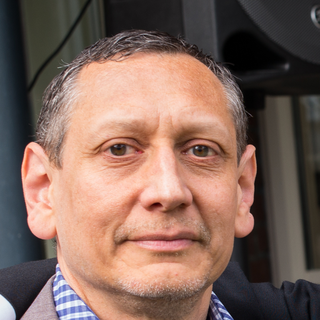eye: (176, 138, 225, 165), (95, 136, 145, 162)
